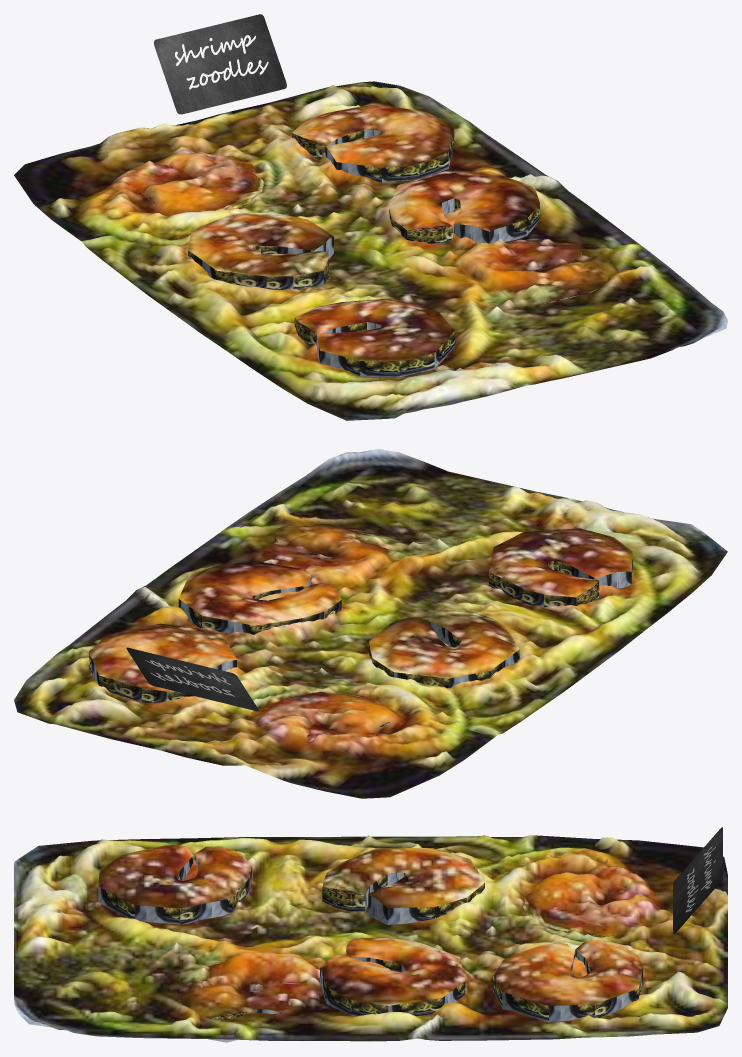
The model's file is food_tray_3.glb.
3 renders of one model, top to bottom at view 1: azimuth 30°, elevation 25°; view 2: azimuth 150°, elevation 25°; view 3: azimuth 270°, elevation 25°, orthographic.
Parts seen in each view (by area): view 1: Material2.016, Material2.017; view 2: Material2.016, Material2.017; view 3: Material2.016, Material2.017.
Part boxes in pixels (x1,y1,x2,y2): Material2.016: (14,81,727,420); Material2.017: (154,14,286,114); Material2.016: (14,449,727,798); Material2.017: (126,647,259,711); Material2.016: (14,835,727,1042); Material2.017: (673,827,722,934).
Bounding box in the file's own units: 6.81 × 1.79 × 10.02.
Materials: 2 (2 with a texture image).
